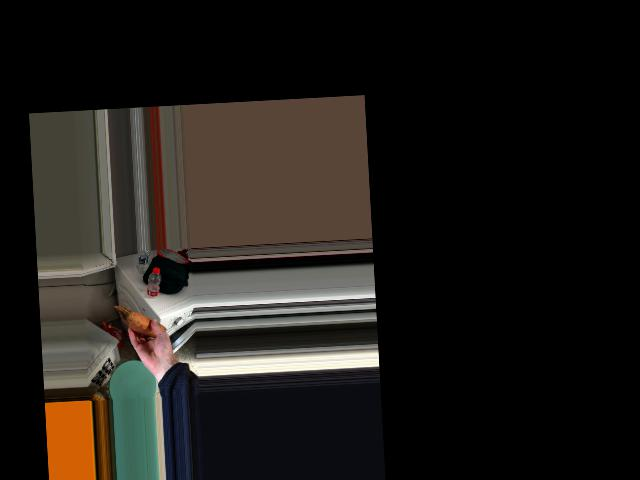sweet_potato: (128, 309, 162, 343)
